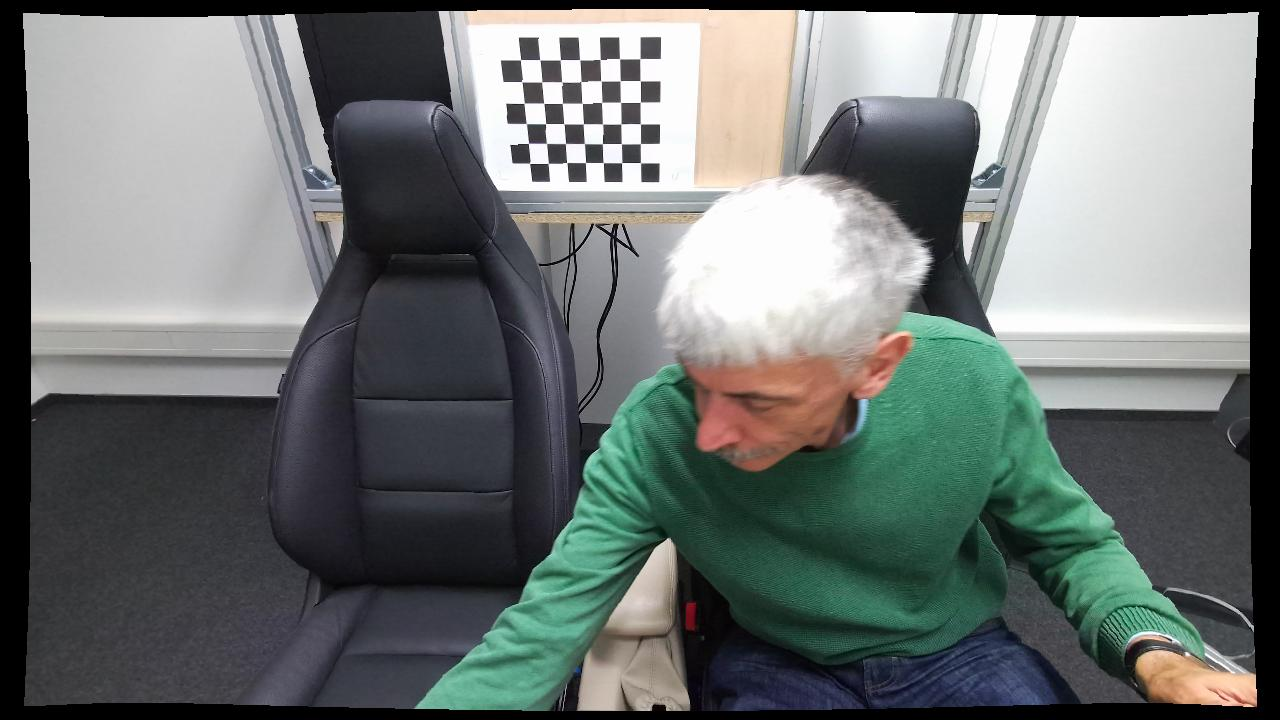Distracted: (406, 169, 1104, 711)
